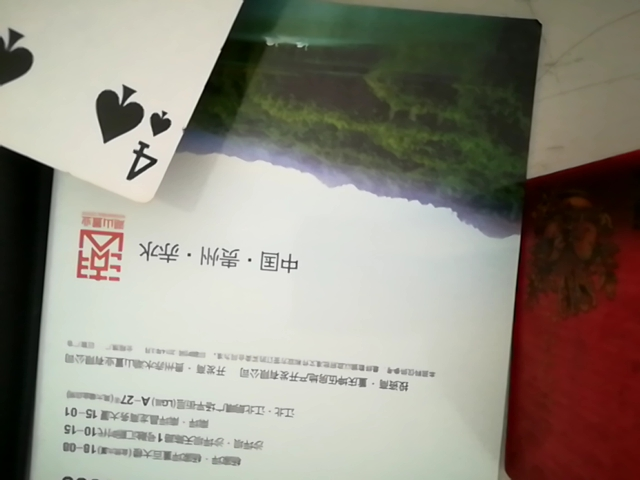ht 4: (0, 1, 300, 211)
